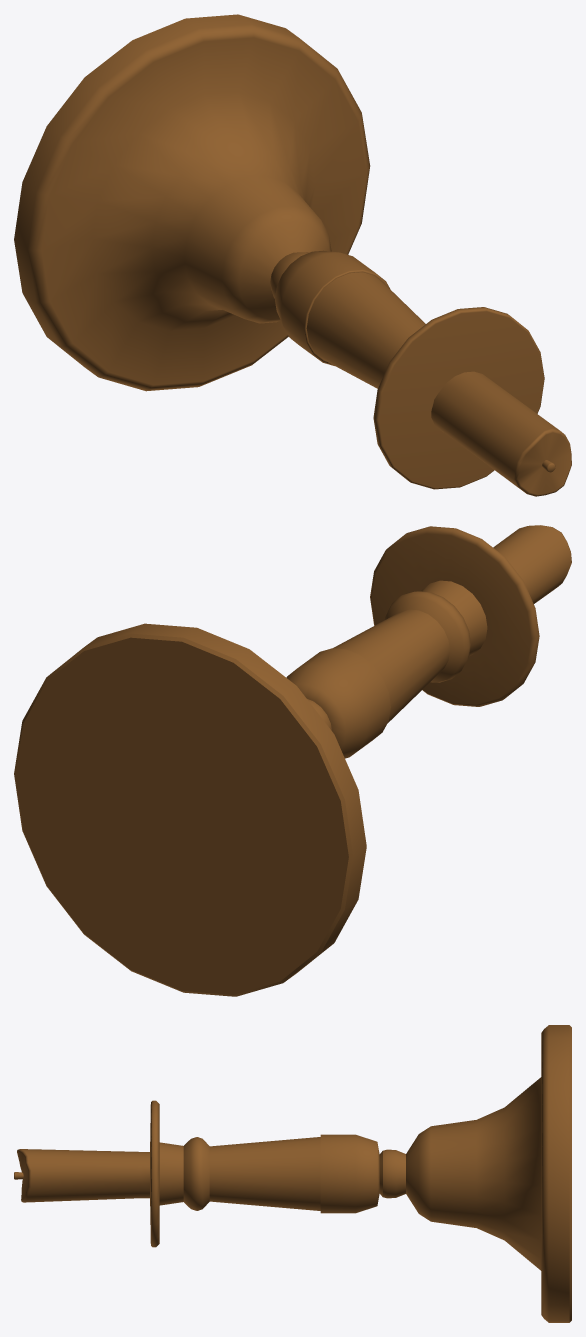
3 renders of one model, top to bottom at view 1: azimuth 30°, elevation 25°; view 2: azimuth 150°, elevation 25°; view 3: azimuth 270°, elevation 25°, orthographic. The views are drawn at different scales.
Size of the model in its own units: 0.5376 by 0.5376 by 1.
